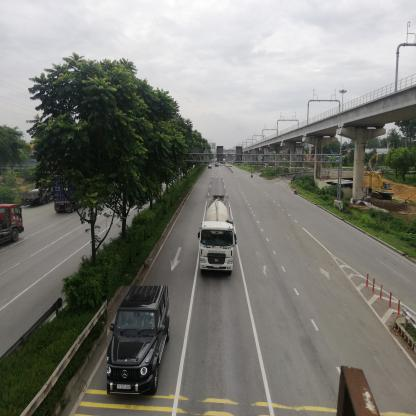car: (108, 287, 170, 399)
container: (2, 205, 25, 249)
motorbike: (294, 186, 299, 196), (251, 172, 254, 180)
truck: (200, 196, 237, 278)
